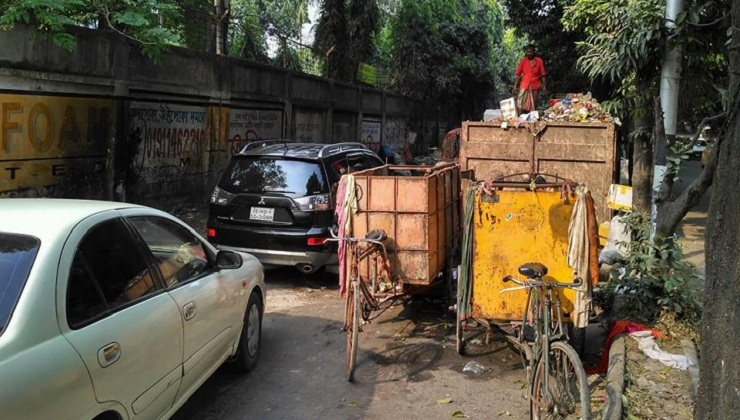car: (1, 195, 267, 420), (206, 137, 381, 273)
garbagevan: (448, 170, 602, 420), (336, 164, 455, 384)
